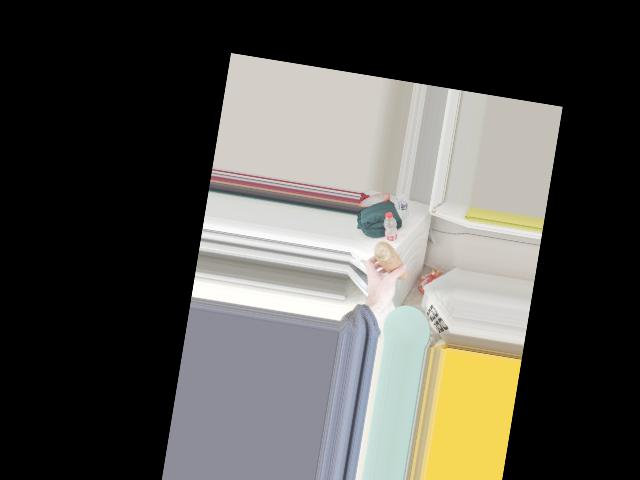sweet_potato: (367, 240, 416, 281)
